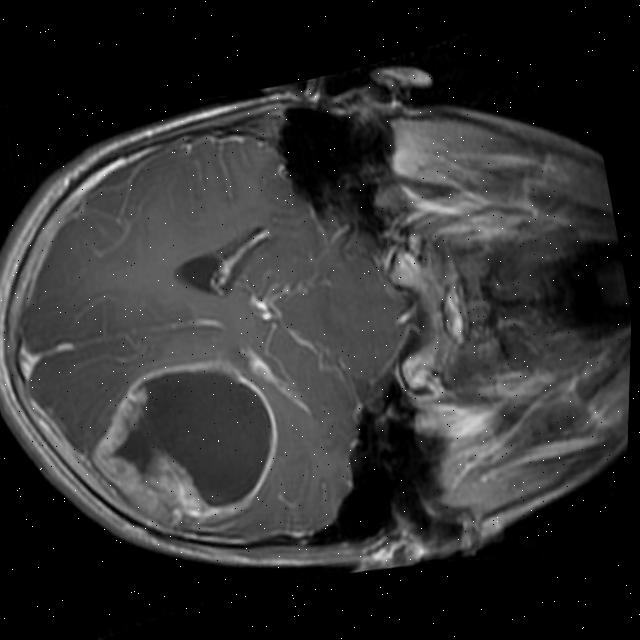Glioma: (74, 341, 294, 542)
Pituitary: (436, 284, 474, 347)
